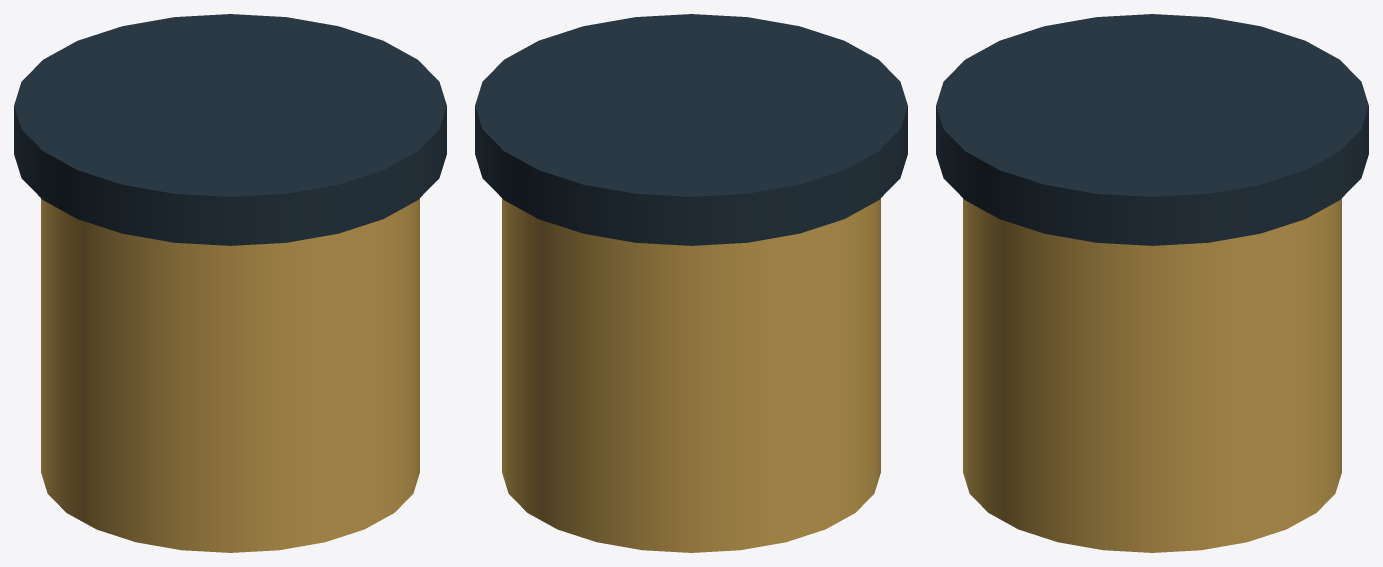
File: paper.glb
The picture shows the model from 3 angles, left to right: view 1: azimuth 30°, elevation 25°; view 2: azimuth 150°, elevation 25°; view 3: azimuth 270°, elevation 25°; orthographic projection.
Parts seen in each view (by area): view 1: MeteredAdhesive, GlueLid; view 2: MeteredAdhesive, GlueLid; view 3: MeteredAdhesive, GlueLid.
Part boxes in pixels (x1,y1,x2,y2): MeteredAdhesive: [41, 198, 419, 552]; GlueLid: [14, 14, 446, 245]; MeteredAdhesive: [502, 198, 880, 552]; GlueLid: [475, 14, 907, 245]; MeteredAdhesive: [963, 198, 1341, 552]; GlueLid: [936, 14, 1368, 245].
Size of the model in its own units: 0.016 by 0.015 by 0.016.
